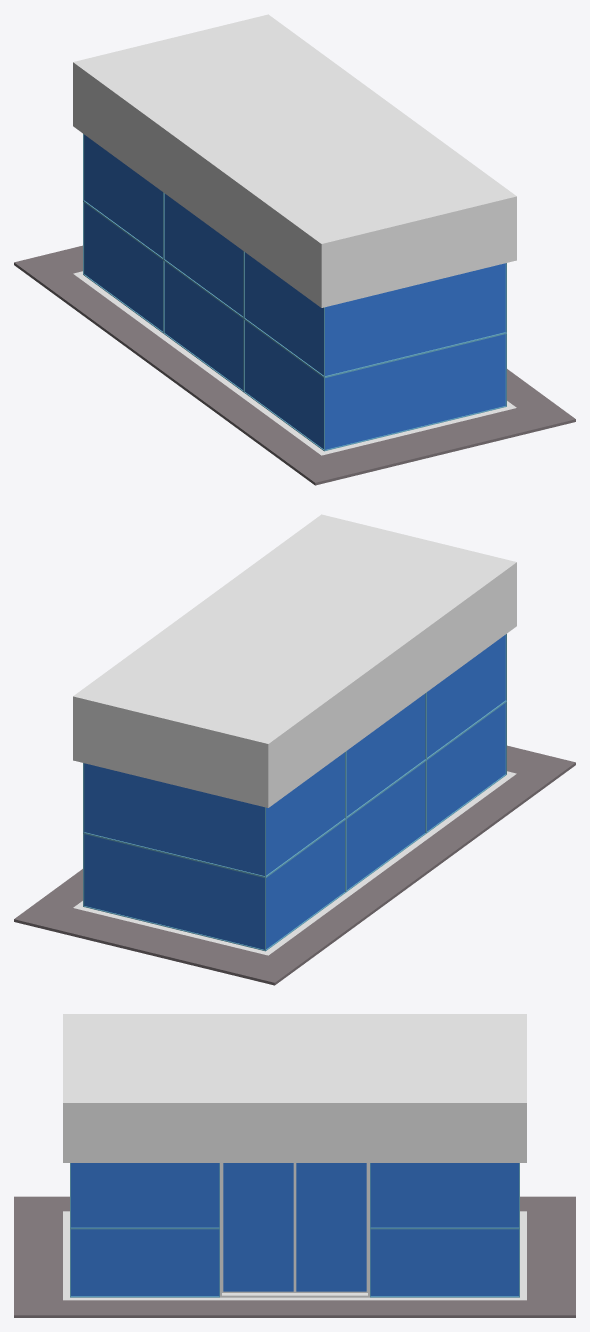
The model's file is building_1x2_8_g.glb.
3 renders of one model, top to bottom at view 1: azimuth 30°, elevation 25°; view 2: azimuth 150°, elevation 25°; view 3: azimuth 270°, elevation 25°, orthographic. The views are drawn at different scales.
Parts seen in each view (by area): view 1: FirstFloor; view 2: FirstFloor; view 3: FirstFloor.
Part boxes in pixels (x1=…): FirstFloor: x1=14, y1=14, x2=575, y2=485; FirstFloor: x1=14, y1=514, x2=575, y2=985; FirstFloor: x1=14, y1=1014, x2=575, y2=1317.
Size of the model in its own units: 2 by 1.57 by 4.
